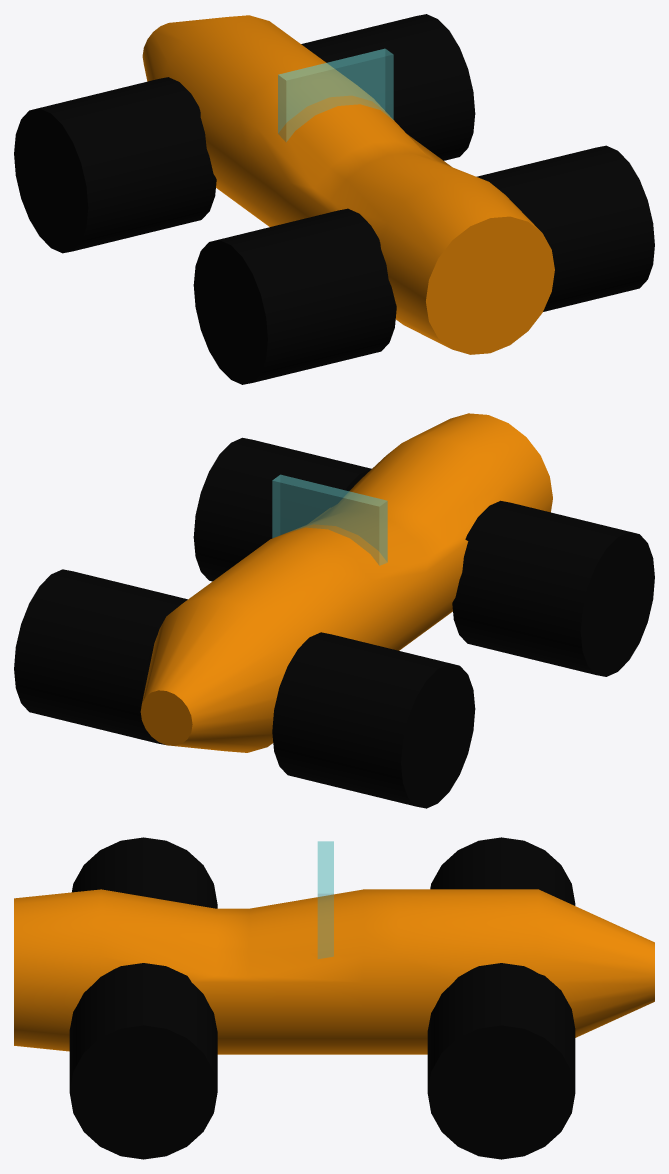
The model's file is toy3.fbx.
3 renders of one model, top to bottom at view 1: azimuth 30°, elevation 25°; view 2: azimuth 150°, elevation 25°; view 3: azimuth 270°, elevation 25°, orthographic.
Parts seen in each view (by area): view 1: pCube2; view 2: pCube2; view 3: pCube2.
Part boxes in pixels (x1=…): pCube2: x1=14, y1=14, x2=654, y2=384; pCube2: x1=14, y1=413, x2=654, y2=808; pCube2: x1=14, y1=837, x2=654, y2=1159.
Bounding box in the file's own units: 6.01 × 2.98 × 8.66.
